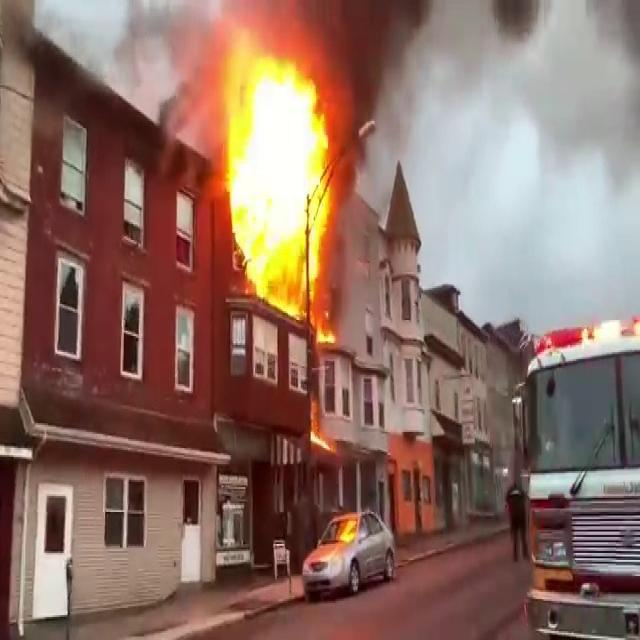Fire: (215, 28, 340, 320)
